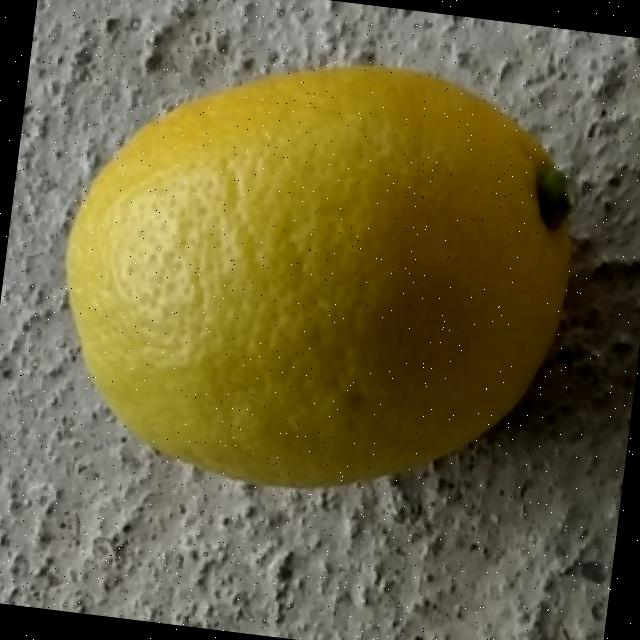Lemon: (38, 23, 596, 520)
